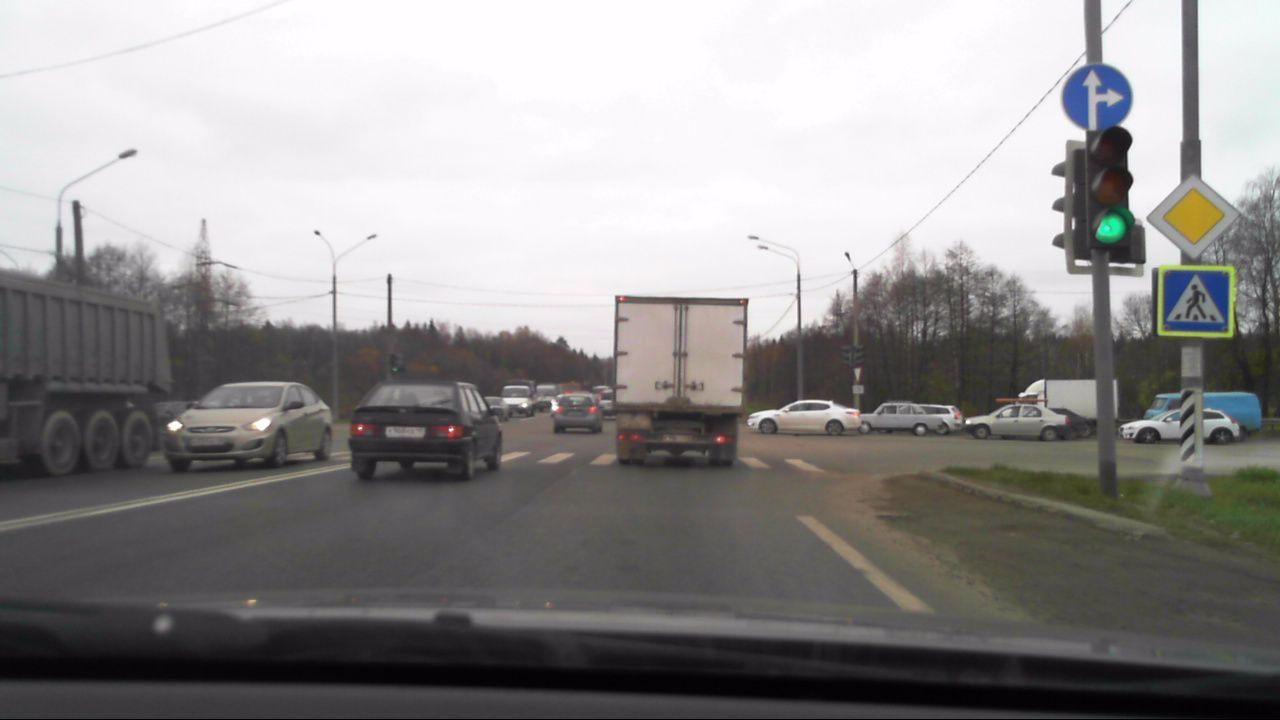2_1: (1148, 175, 1244, 256)
2_4: (851, 366, 863, 383)
4_1_4: (1062, 62, 1135, 130)
5_19_1: (1162, 267, 1232, 334)
6_16: (852, 386, 867, 394)
